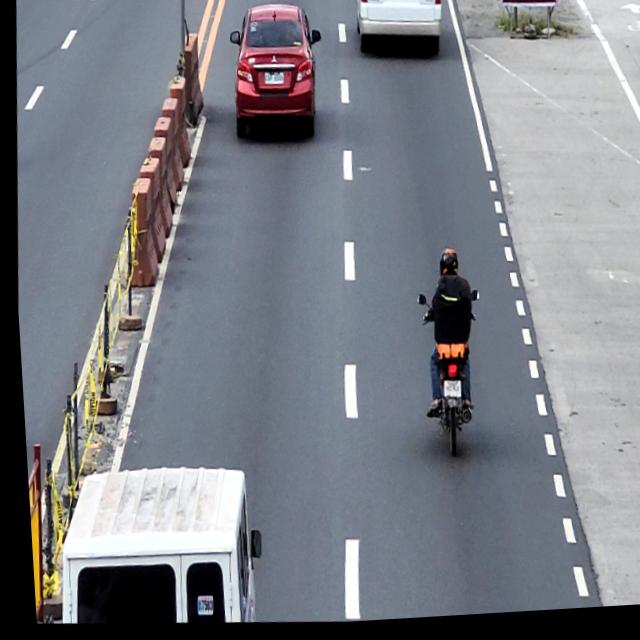Car: (47, 457, 262, 633), (222, 2, 327, 146), (352, 0, 445, 60)
License-Plate: (437, 383, 458, 406), (261, 71, 284, 90), (390, 0, 412, 4)
Motorcycle: (404, 291, 484, 465)
